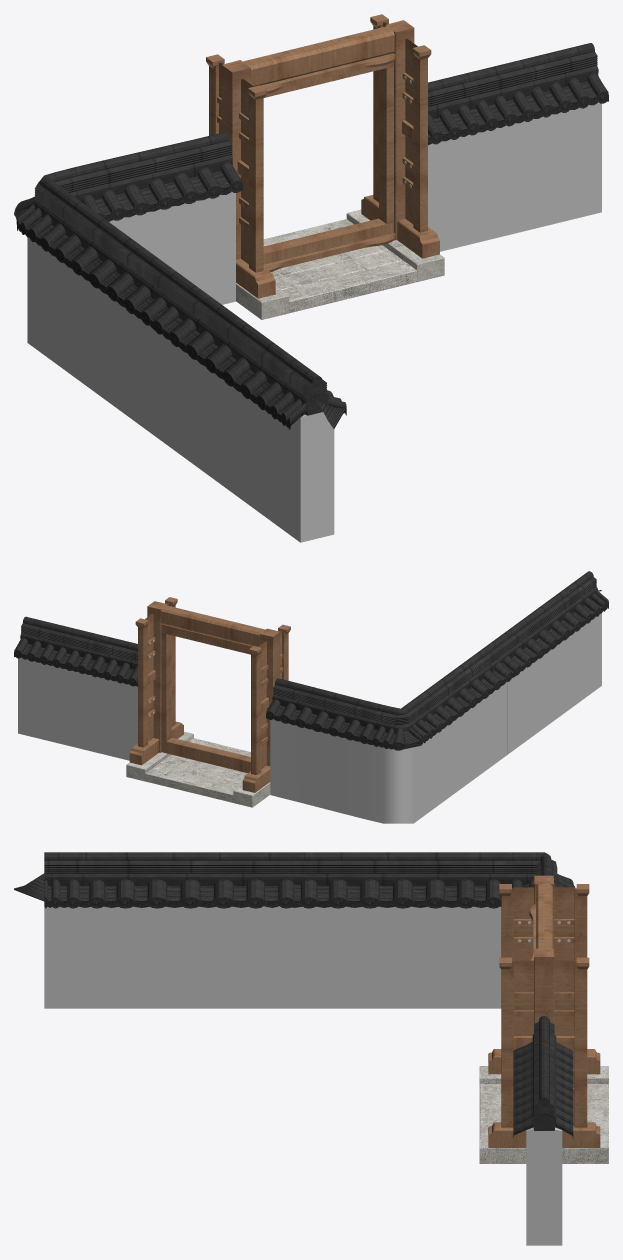
File: SM_JSH_HG_StoneWallH_Splines_20.fbx
3 views of the same model, one above another, from view 1: azimuth 30°, elevation 25°; view 2: azimuth 150°, elevation 25°; view 3: azimuth 270°, elevation 25° (orthographic). The views are drawn at different scales.
Visible parts, largest first — view 1: SM_JSH_HG_StoneWallH_Splines_20; view 2: SM_JSH_HG_StoneWallH_Splines_20; view 3: SM_JSH_HG_StoneWallH_Splines_20.
Boxes of the visible parts, left/top/right/bottom form: SM_JSH_HG_StoneWallH_Splines_20: left=14, top=14, right=608, bottom=542; SM_JSH_HG_StoneWallH_Splines_20: left=14, top=571, right=608, bottom=823; SM_JSH_HG_StoneWallH_Splines_20: left=14, top=852, right=608, bottom=1245.
Bounding box in the file's own units: 662 × 647 × 248.
